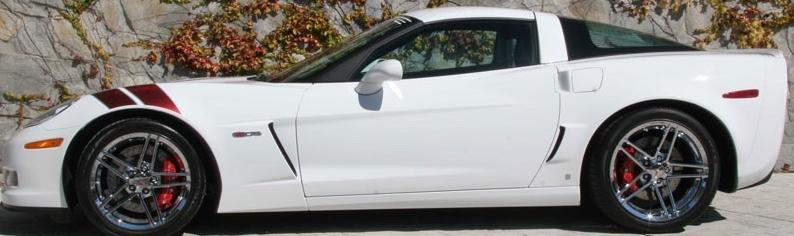side_glass: (349, 14, 562, 84)
